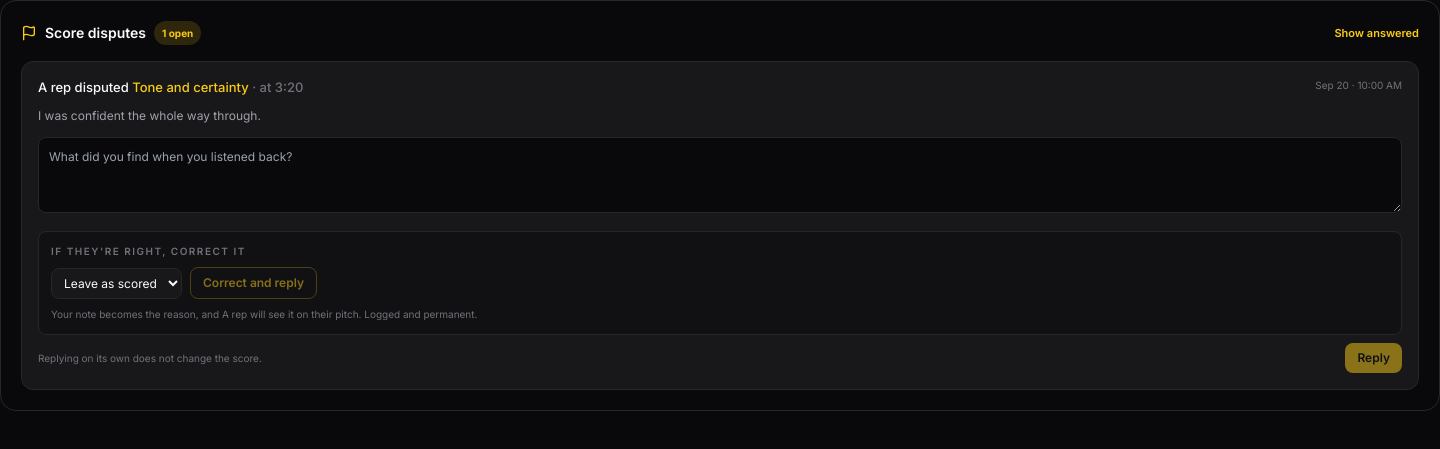
Test: replying › says nothing was recorded when the reply failed, and keeps the box
Expected: the text "A rep disputed Tone and certainty · at 3:20" is shown, [38,78,303,98]
Type "x" into the text box named "Reply to this dispute". click: (720, 175)
box: [38,137,1402,213]
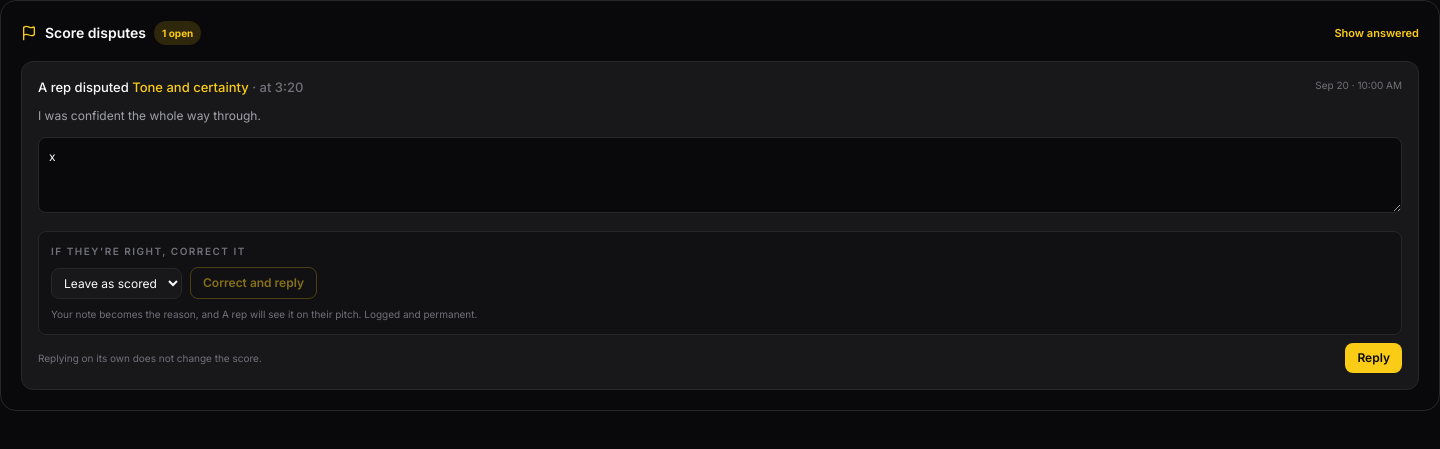
Click the button "Reply". click: (1374, 358)
box: [1345,343,1402,373]
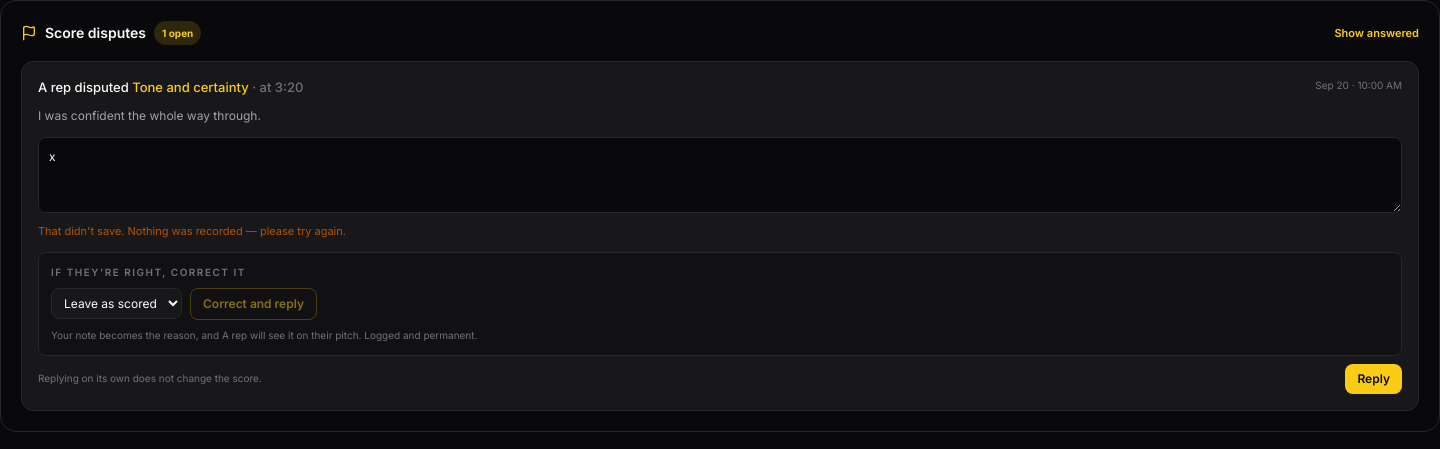
Expected: the text "A rep disputed Tone and certainty · at 3:20" is shown, [38,78,303,98]
Result: the text "That didn't save. Nothing was recorded — please try again." is shown at [38,224,346,238]
